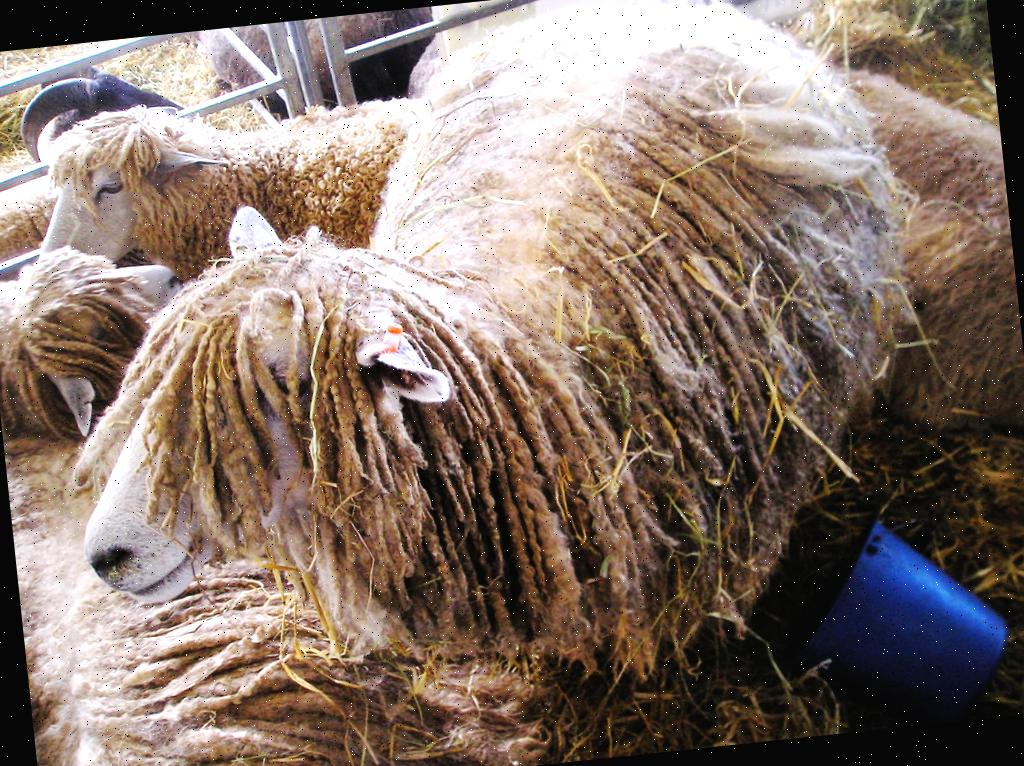Sheep: (39, 0, 934, 766), (0, 220, 364, 766), (5, 65, 435, 273)
